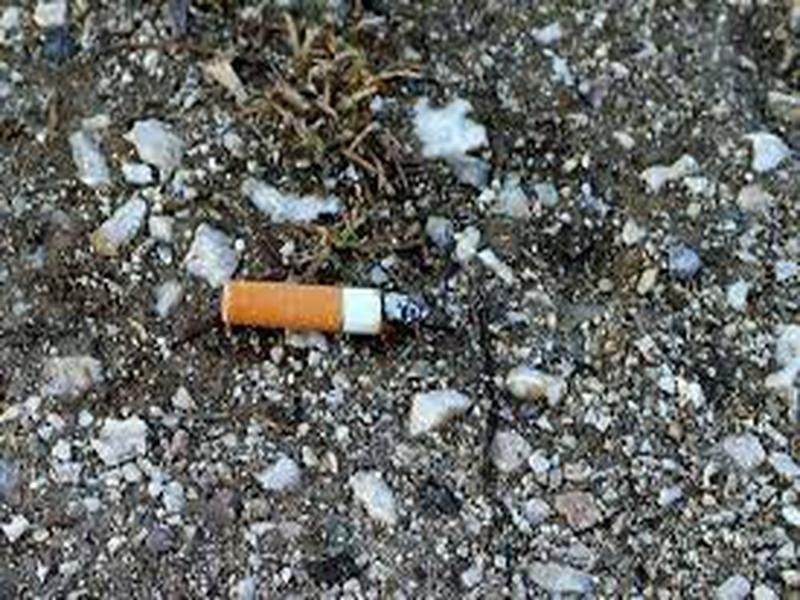burned_cigarette: (212, 275, 422, 341)
